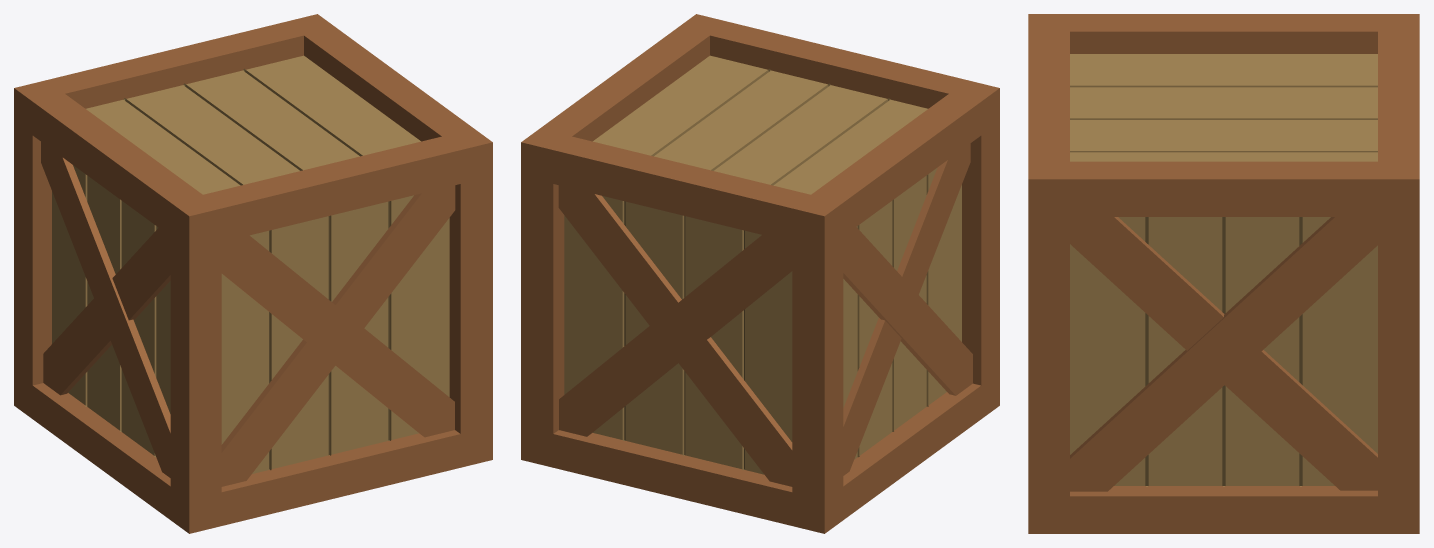
The model's file is DroneObstacleCrate.fbx.
The picture shows the model from 3 angles, left to right: view 1: azimuth 30°, elevation 25°; view 2: azimuth 150°, elevation 25°; view 3: azimuth 270°, elevation 25°; orthographic projection. The views are drawn at different scales.
Visible parts, largest first — view 1: Crate; view 2: Crate; view 3: Crate.
Boxes of the visible parts, x1=… form: Crate: x1=14, y1=14, x2=492, y2=533; Crate: x1=521, y1=14, x2=999, y2=533; Crate: x1=1028, y1=14, x2=1419, y2=533.
Size of the model in its own units: 355 by 355 by 355.
